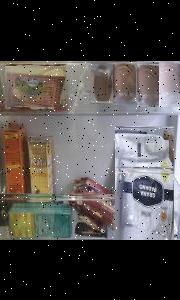Huevos: (113, 62, 137, 104), (137, 61, 159, 106), (159, 60, 180, 106), (91, 63, 114, 103)
Mantequilla: (5, 64, 66, 106)
Nata: (29, 136, 53, 198)
Queso: (115, 126, 174, 240)
